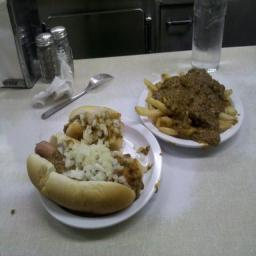hotdog: (34, 138, 56, 160)
